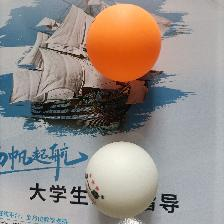WhiteBall: (82, 140, 158, 218)
YellowBall: (85, 3, 162, 82)
